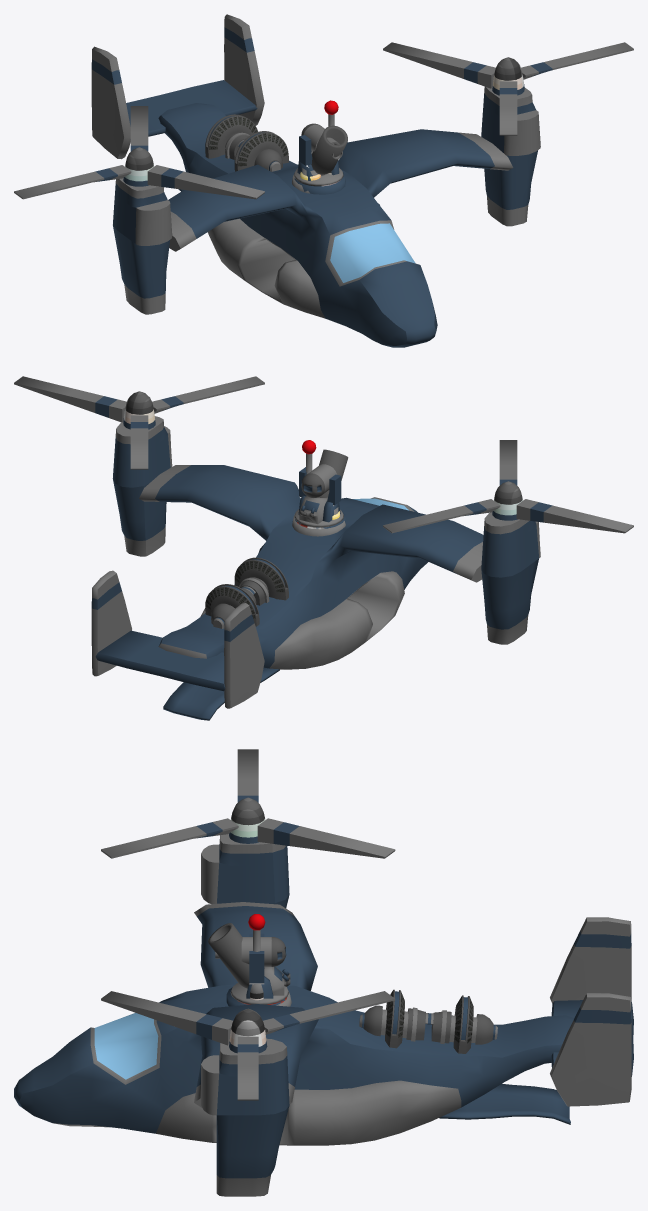
The model's file is Aircraft_upd (3).fbx.
The picture shows the model from 3 angles, top to bottom: view 1: azimuth 30°, elevation 25°; view 2: azimuth 150°, elevation 25°; view 3: azimuth 270°, elevation 25°; orthographic projection. The views are drawn at different scales.
Parts seen in each view (by area): view 1: Aircraft, Switcher, R_wing, L_wing, Shield_generator, landmines_cannon, antenna, landmines_cannon_platform; view 2: Aircraft, Switcher, R_wing, L_wing, Shield_generator, door, landmines_cannon, laser_gun, landmines_cannon_platform, rotating_element; view 3: Aircraft, Switcher, R_wing, L_wing, Shield_generator, door, landmines_cannon, laser_gun, antenna, landmines_cannon_platform.
Boxes of the visible parts, bbox=[...] form: Aircraft: bbox=[91, 14, 513, 347]; Switcher: bbox=[113, 86, 540, 314]; R_wing: bbox=[383, 42, 633, 135]; L_wing: bbox=[14, 106, 264, 199]; Shield_generator: bbox=[205, 114, 288, 171]; landmines_cannon: bbox=[297, 125, 347, 180]; antenna: bbox=[294, 100, 345, 194]; landmines_cannon_platform: bbox=[292, 168, 343, 193]; Aircraft: bbox=[91, 465, 483, 708]; Switcher: bbox=[112, 416, 540, 644]; R_wing: bbox=[14, 376, 264, 469]; L_wing: bbox=[383, 440, 633, 533]; Shield_generator: bbox=[205, 557, 288, 628]; door: bbox=[163, 667, 279, 720]; landmines_cannon: bbox=[298, 449, 348, 524]; laser_gun: bbox=[301, 464, 336, 497]; landmines_cannon_platform: bbox=[292, 509, 345, 536]; rotating_element: bbox=[299, 467, 341, 506]; Aircraft: bbox=[14, 902, 633, 1145]; Switcher: bbox=[201, 834, 289, 1196]; R_wing: bbox=[101, 991, 395, 1100]; L_wing: bbox=[101, 749, 395, 858]; Shield_generator: bbox=[359, 989, 497, 1053]; door: bbox=[439, 1084, 570, 1124]; landmines_cannon: bbox=[208, 923, 290, 998]; laser_gun: bbox=[215, 937, 286, 966]; antenna: bbox=[226, 914, 284, 1006]; landmines_cannon_platform: bbox=[230, 983, 291, 1006].
Size of the model in its own units: 3830 by 1094 by 2872.
